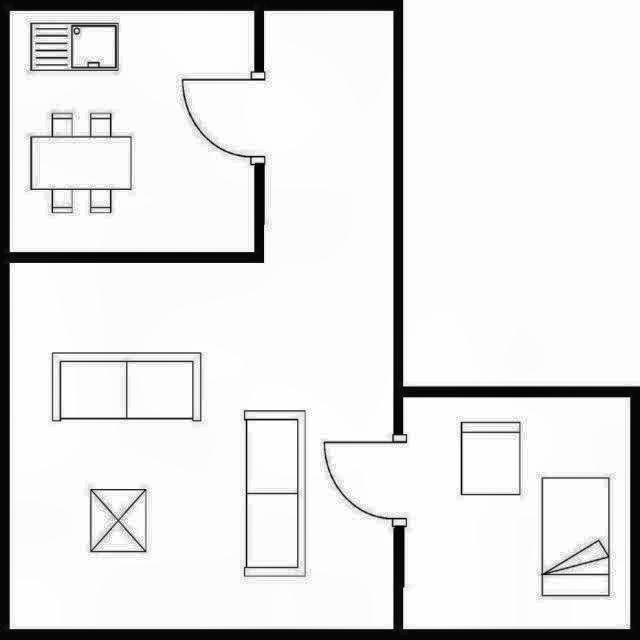room: (9, 11, 393, 629), (9, 11, 254, 252), (402, 398, 630, 630)
